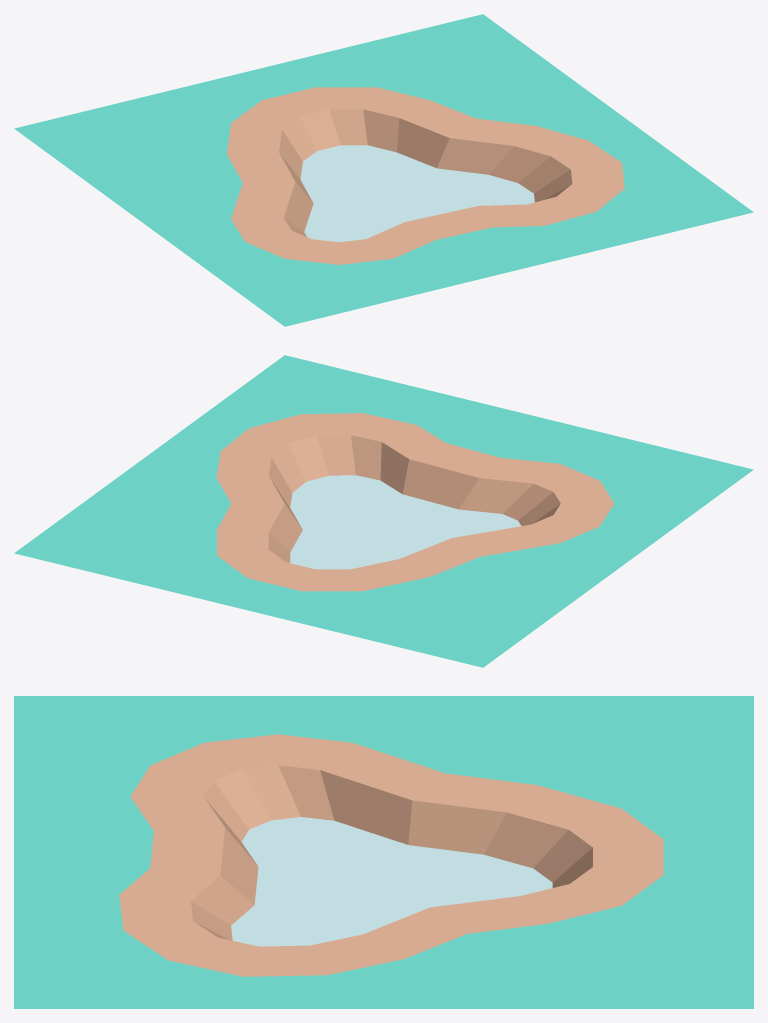
3 renders of one model, top to bottom at view 1: azimuth 30°, elevation 25°; view 2: azimuth 150°, elevation 25°; view 3: azimuth 270°, elevation 25°, orthographic. The views are drawn at different scales.
Visible parts, largest first — view 1: ground_riverTile; view 2: ground_riverTile; view 3: ground_riverTile.
Part boxes in pixels (x1,y1,x2,y2): ground_riverTile: [14, 14, 753, 326]; ground_riverTile: [14, 355, 753, 667]; ground_riverTile: [14, 696, 753, 1008].
Size of the model in its own units: 1 by 0.05 by 1.
